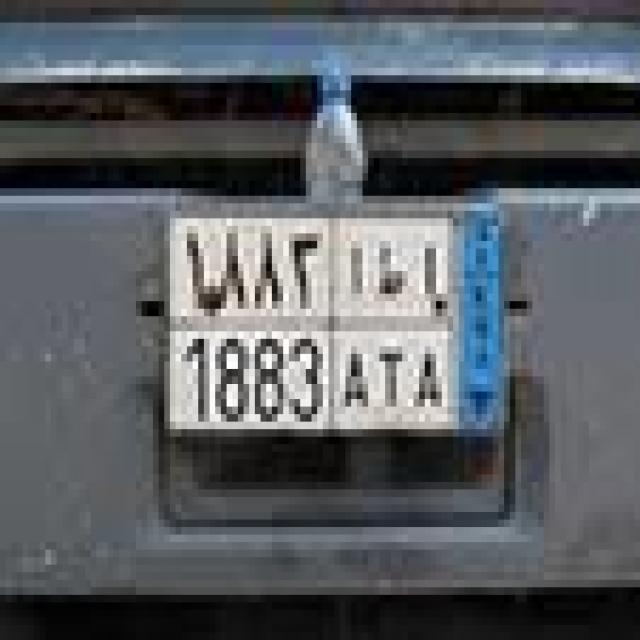license_plate: (113, 166, 521, 490)
